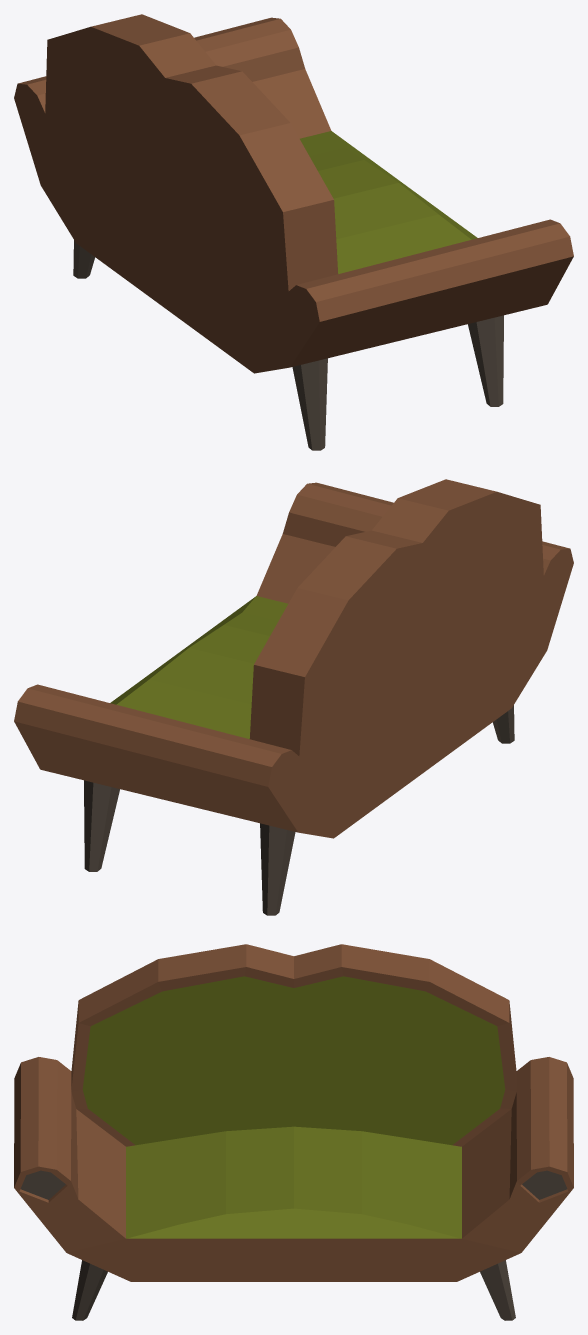
File: couch.fbx
3 renders of one model, top to bottom at view 1: azimuth 30°, elevation 25°; view 2: azimuth 150°, elevation 25°; view 3: azimuth 270°, elevation 25°, orthographic. The views are drawn at different scales.
Parts seen in each view (by area): view 1: Cube; view 2: Cube; view 3: Cube.
Part boxes in pixels (x1,y1,x2,y2): Cube: (14,14,573,450); Cube: (14,479,573,915); Cube: (14,944,573,1320).
Size of the model in its own units: 3.55 by 4.01 by 7.3.
